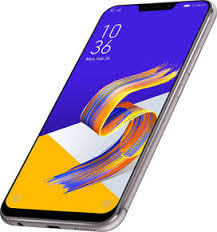asus: (4, 1, 215, 232)
